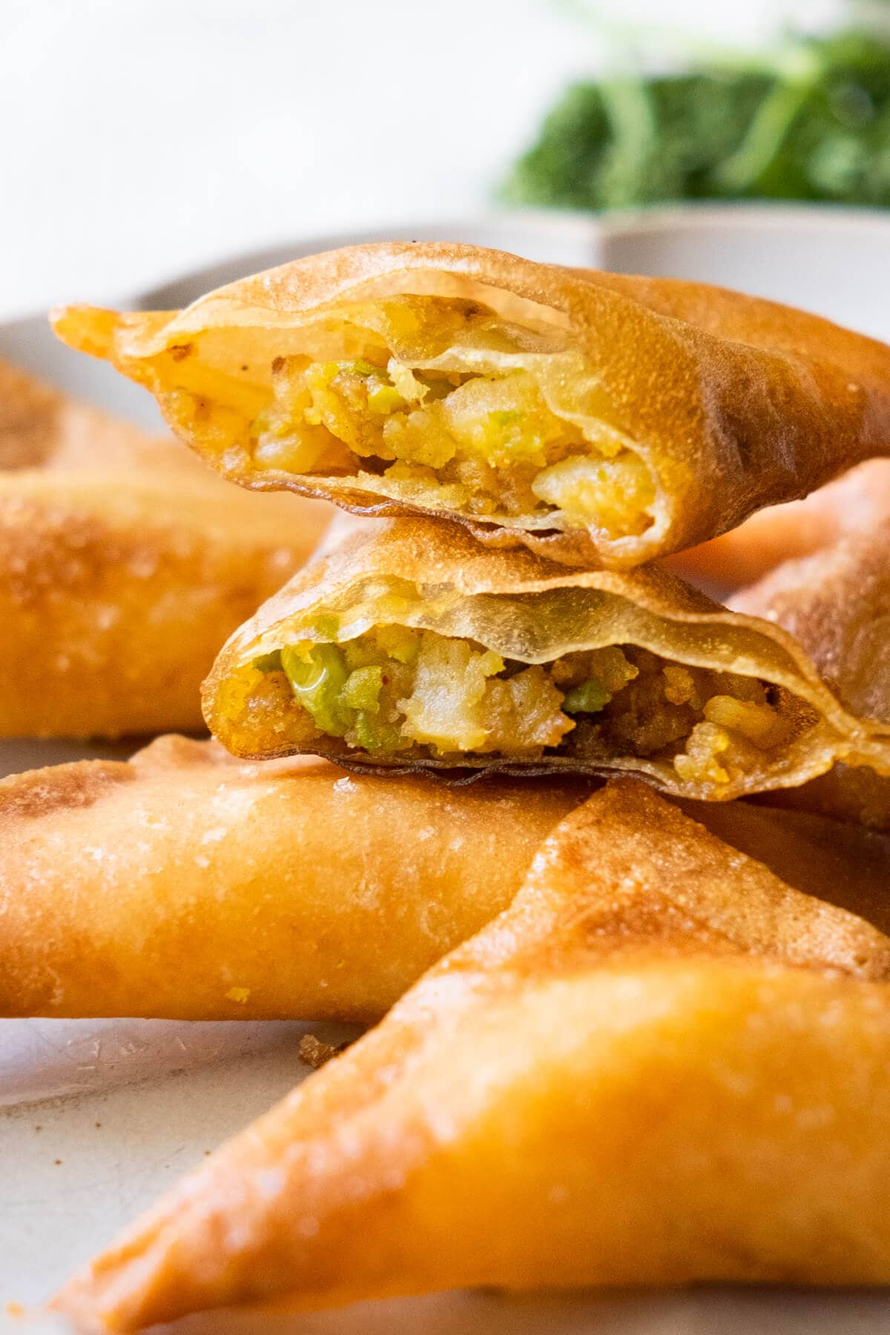samosa: (85, 820, 890, 1335), (45, 237, 890, 571), (7, 708, 782, 1057), (204, 486, 860, 831), (7, 341, 245, 719)
